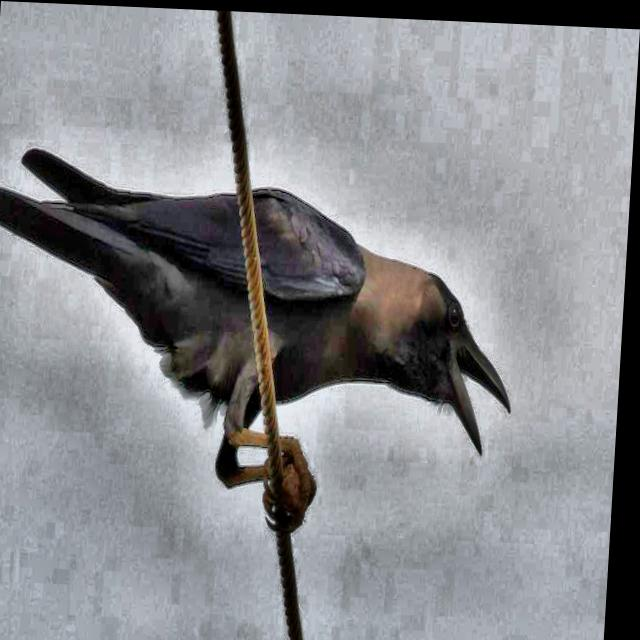crow: (0, 130, 529, 520)
